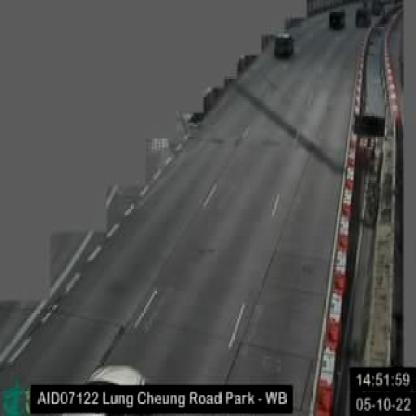Car: (272, 31, 292, 57), (327, 7, 346, 28)
